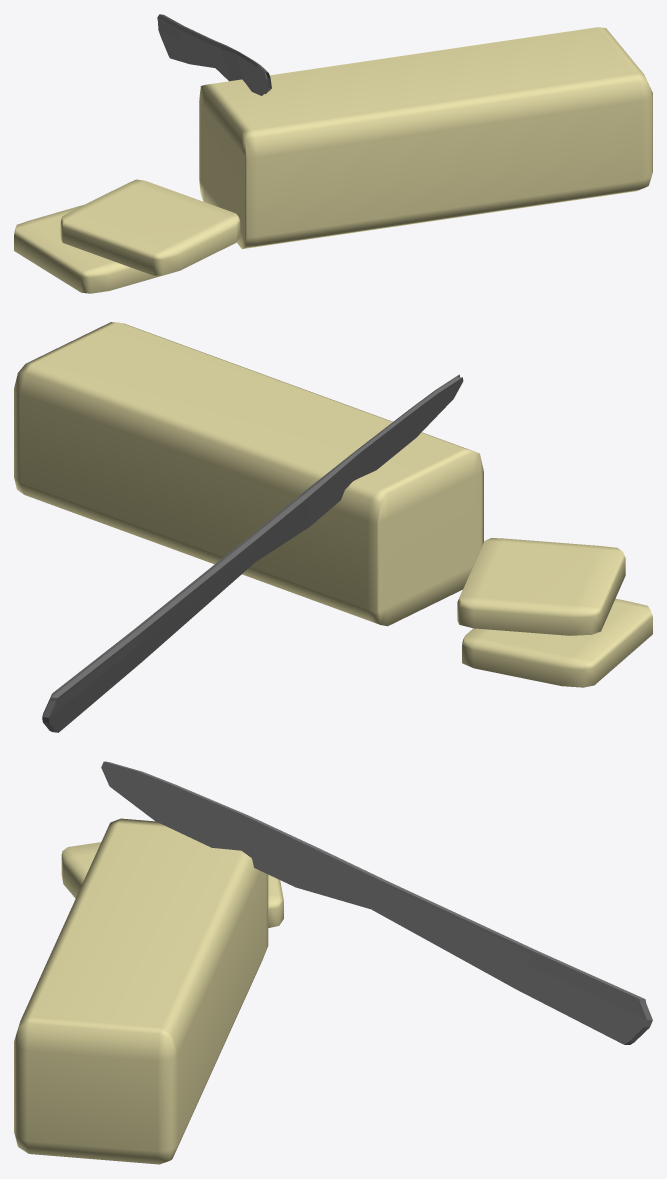
The model's file is butter.fbx.
The picture shows the model from 3 angles, top to bottom: view 1: azimuth 30°, elevation 25°; view 2: azimuth 150°, elevation 25°; view 3: azimuth 270°, elevation 25°; orthographic projection. The views are drawn at different scales.
Parts seen in each view (by area): view 1: polySurface171; view 2: polySurface171; view 3: polySurface171.
Part boxes in pixels (<box>): polySurface171: <box>14,14,652,293</box>; polySurface171: <box>14,322,652,732</box>; polySurface171: <box>14,761,652,1164</box>.
Size of the model in its own units: 86.19 by 27.14 by 74.75.
